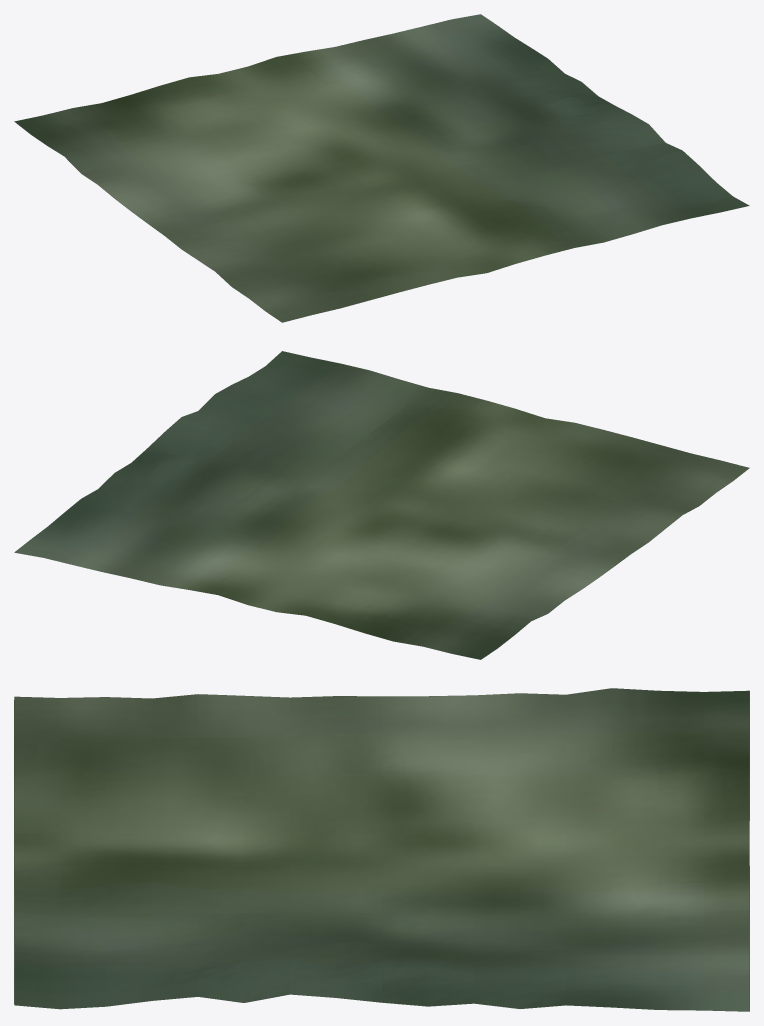
3 views of the same model, one above another, from view 1: azimuth 30°, elevation 25°; view 2: azimuth 150°, elevation 25°; view 3: azimuth 270°, elevation 25° (orthographic). The views are drawn at different scales.
Bounding box in the file's own units: 15673 × 407 × 15595.
1 material, 1 textured.
